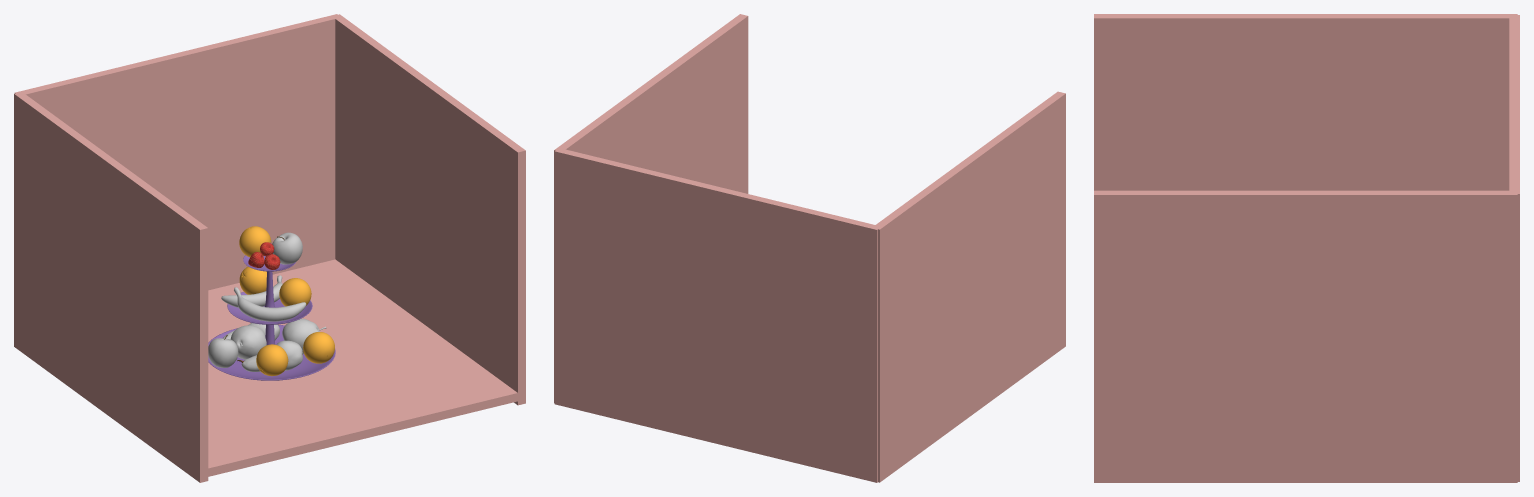
The model's file is WallFruitBowl.fbx.
3 renders of one model, left to right at view 1: azimuth 30°, elevation 25°; view 2: azimuth 150°, elevation 25°; view 3: azimuth 270°, elevation 25°, orthographic. The views are drawn at different scales.
Parts seen in each view (by area): view 1: Cube.003, Cube.004, Cube.002, Cube, fruit_bowl, Banana1, Pear1, Orange5, Orange4, Apple2, Apple1, Orange3 (+5 smaller); view 2: Cube.002, Cube.003, Cube.004; view 3: Cube.004, Cube.003, Cube.002.
Boxes of the visible parts, left/top/right/bottom form: Cube.003: left=14, top=93, right=208, bottom=482; Cube.004: left=332, top=14, right=525, bottom=405; Cube.002: left=14, top=14, right=340, bottom=290; Cube: left=202, top=259, right=517, bottom=478; fruit_bowl: left=208, top=242, right=335, bottom=380; Banana1: left=234, top=287, right=306, bottom=321; Pear1: left=230, top=325, right=266, bottom=359; Orange5: left=256, top=344, right=288, bottom=376; Orange4: left=303, top=332, right=334, bottom=363; Apple2: left=208, top=335, right=238, bottom=367; Apple1: left=272, top=232, right=302, bottom=264; Orange3: left=279, top=278, right=311, bottom=306; Cube.002: left=554, top=148, right=881, bottom=482; Cube.003: left=874, top=91, right=1065, bottom=482; Cube.004: left=554, top=14, right=748, bottom=403; Cube.004: left=1094, top=190, right=1517, bottom=482; Cube.003: left=1094, top=14, right=1517, bottom=190; Cube.002: left=1509, top=15, right=1519, bottom=481.
Size of the model in its own units: 80.86 by 60 by 80.43.
